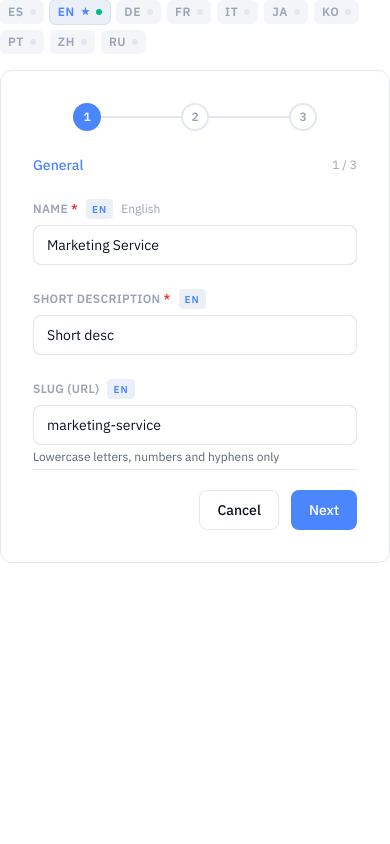
ServiceForm — AI translation suggestion › renders the button once the source language has content and a different tab is active
Click the button "de": (139, 12) [116,0,161,24]
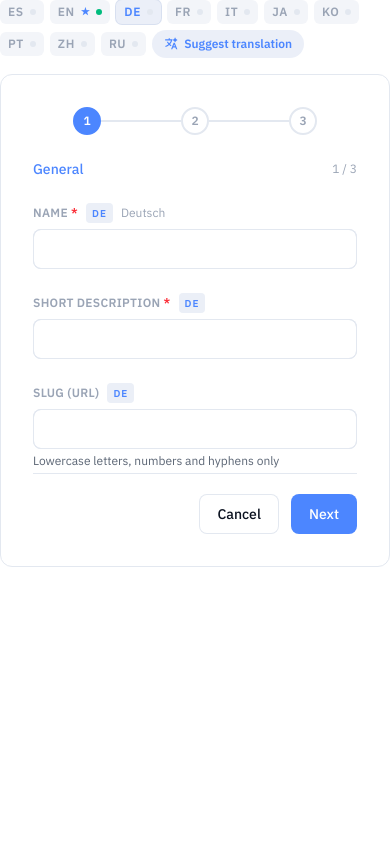
Expected: the button "Suggest translation" is shown, [152,30,304,58]
